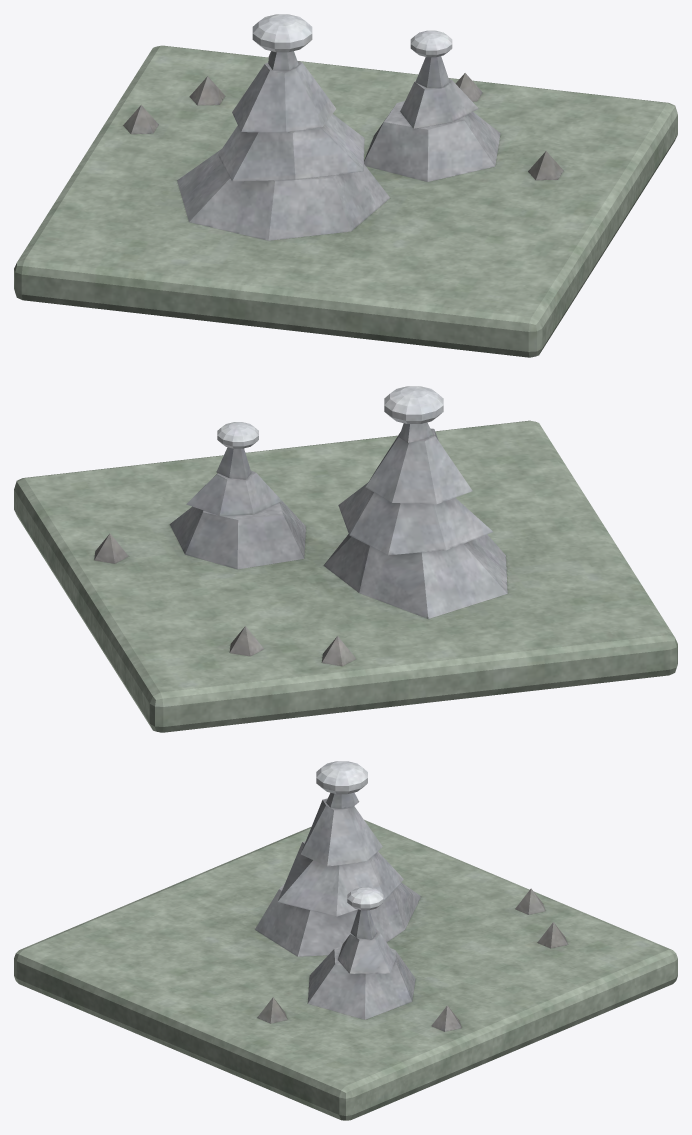
The model's file is brakkar_hills.glb.
3 views of the same model, one above another, from view 1: azimuth 30°, elevation 25°; view 2: azimuth 150°, elevation 25°; view 3: azimuth 270°, elevation 25° (orthographic). The views are drawn at different scales.
Parts seen in each view (by area): view 1: dilek; view 2: dilek; view 3: dilek.
Boxes of the visible parts, x1,y1,x2,y2 form: dilek: (14,14,677,357); dilek: (14,386,677,732); dilek: (14,761,677,1120).
Bounding box in the file's own units: 2.42 × 0.77 × 2.42.
1 material, 1 textured.
